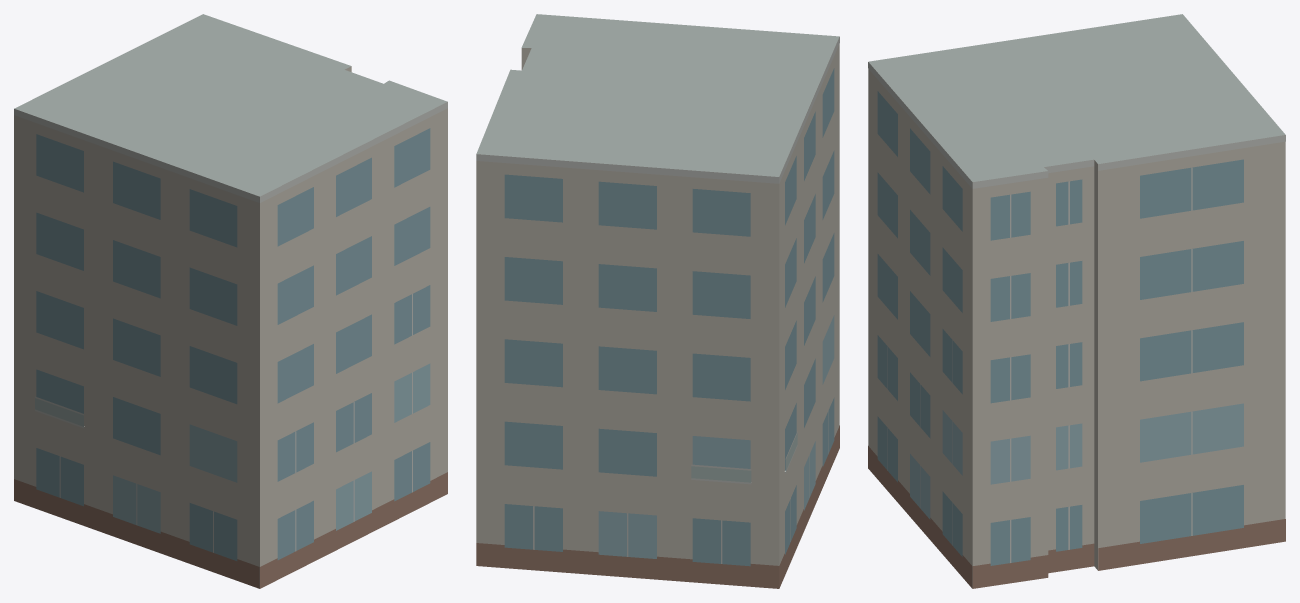
Rendered from survey-upis-32844764.glb.
3 views of the same model, side by side, from view 1: azimuth 30°, elevation 25°; view 2: azimuth 150°, elevation 25°; view 3: azimuth 270°, elevation 25° (orthographic). The views are drawn at different scales.
Parts seen in each view (by area): view 1: survey-upis-32844764.tmp; view 2: survey-upis-32844764.tmp; view 3: survey-upis-32844764.tmp.
Part boxes in pixels (x1,y1,x2,y2): survey-upis-32844764.tmp: (14,14,447,588); survey-upis-32844764.tmp: (476,14,839,588); survey-upis-32844764.tmp: (868,14,1285,588).
Size of the model in its own units: 13.14 by 14.8 by 13.78.
